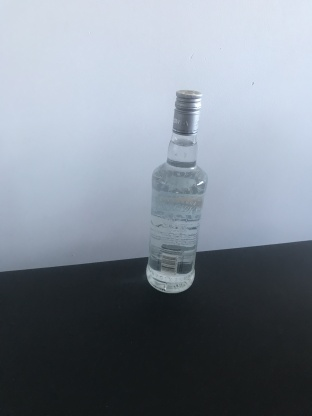nakretka: (170, 88, 202, 136)
